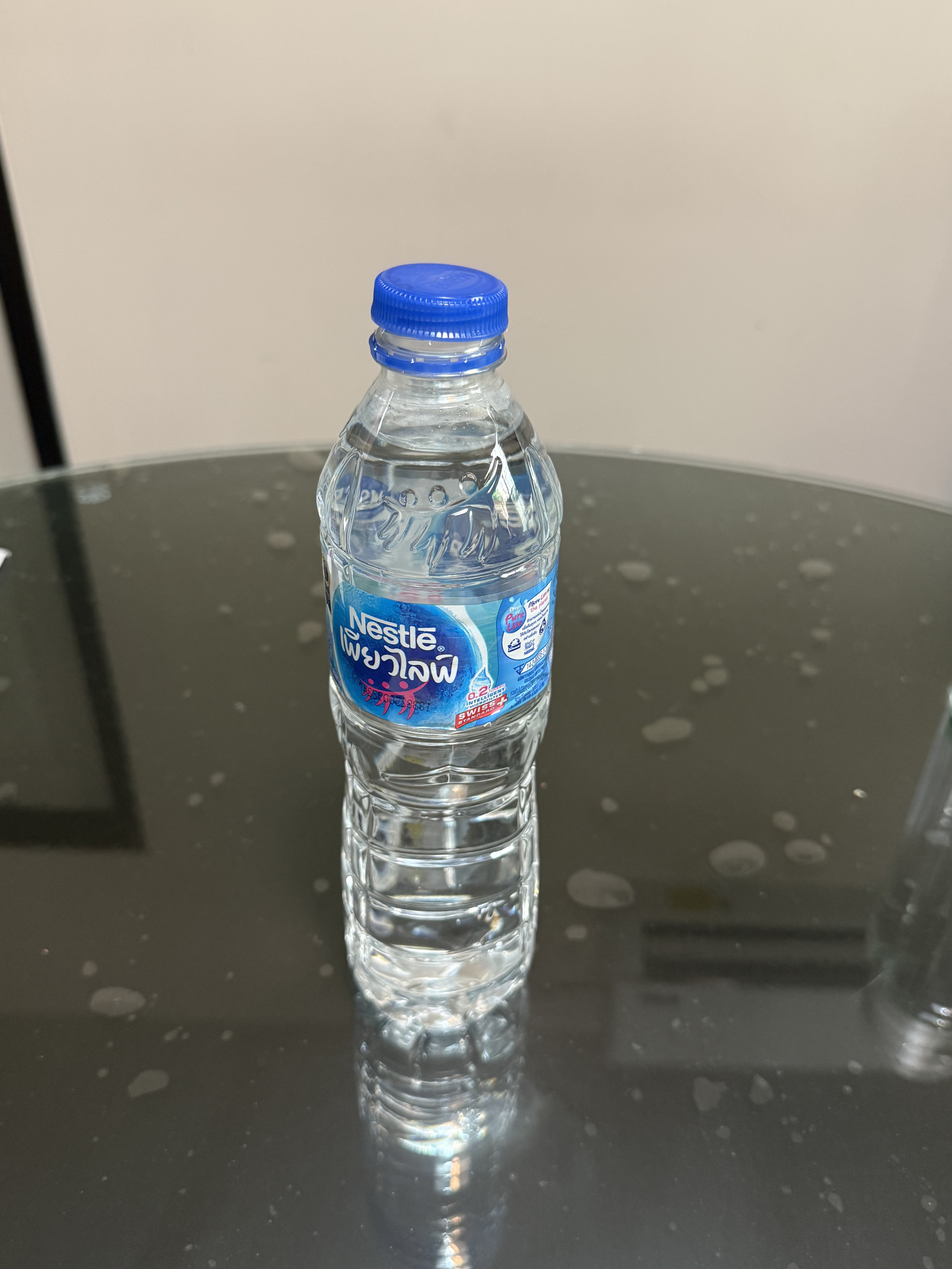half_cap: (364, 257, 512, 375)
